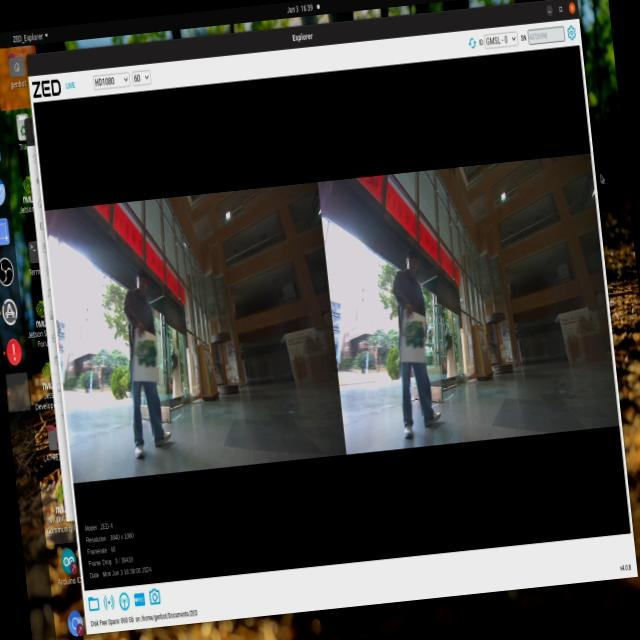green: (127, 331, 161, 384), (402, 326, 430, 349)
